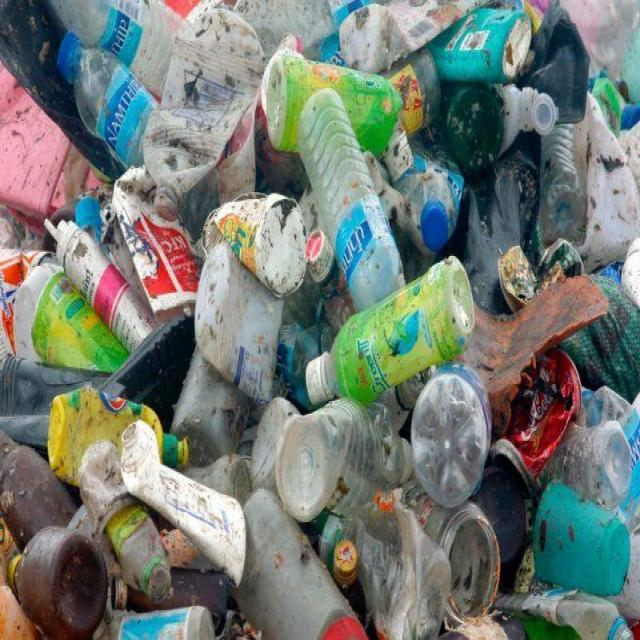plastic_bottle: (294, 86, 406, 338), (113, 418, 275, 573), (226, 474, 373, 640), (149, 9, 258, 224), (33, 216, 159, 378), (295, 290, 482, 396), (191, 236, 297, 415), (497, 64, 598, 249), (44, 1, 213, 111), (56, 28, 163, 193), (271, 404, 395, 532), (402, 344, 498, 509), (47, 383, 194, 488), (82, 441, 171, 610), (199, 180, 313, 294), (408, 488, 505, 619), (536, 466, 630, 601), (4, 528, 112, 629), (330, 6, 461, 80), (392, 146, 466, 270), (434, 8, 535, 86), (1, 219, 33, 368), (324, 543, 369, 595)
